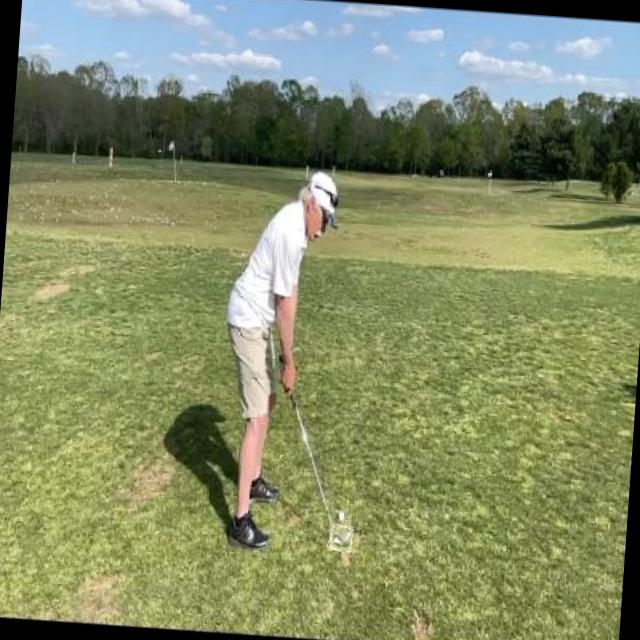club head: (328, 524, 353, 552)
